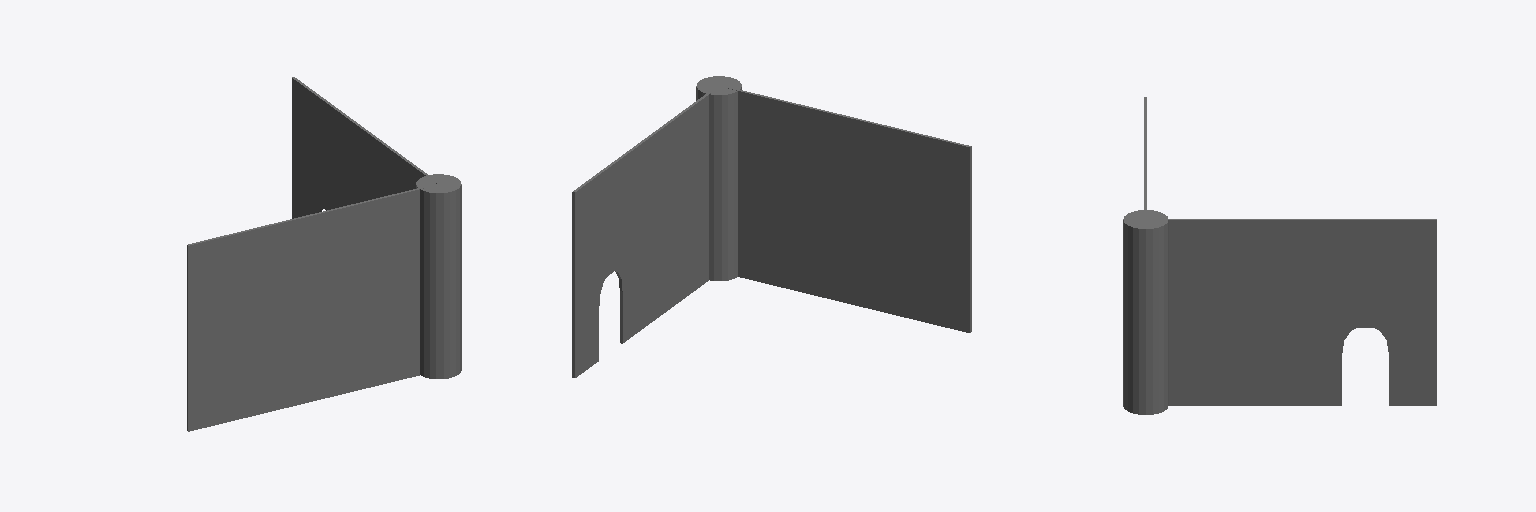
File: wall_02.obj
3 renders of one model, left to right at view 1: azimuth 30°, elevation 25°; view 2: azimuth 150°, elevation 25°; view 3: azimuth 270°, elevation 25°, orthographic.
Parts seen in each view (by area): view 1: wall_02 wall3, wall1 wall_02, wall_02 wall2; view 2: wall_02 wall3, wall1 wall_02, wall_02 wall2; view 3: wall1 wall_02, wall_02 wall2.
Boxes of the visible parts, box(x1,y1,x2,y2) form: wall_02 wall3: box(187, 184, 438, 431); wall1 wall_02: box(292, 77, 439, 218); wall_02 wall2: box(416, 174, 461, 378); wall_02 wall3: box(720, 85, 971, 332); wall1 wall_02: box(572, 85, 719, 377); wall_02 wall2: box(696, 76, 741, 280); wall1 wall_02: box(1146, 219, 1436, 405); wall_02 wall2: box(1123, 210, 1168, 414).
Size of the model in its own units: 13.73 by 9.01 by 13.75.